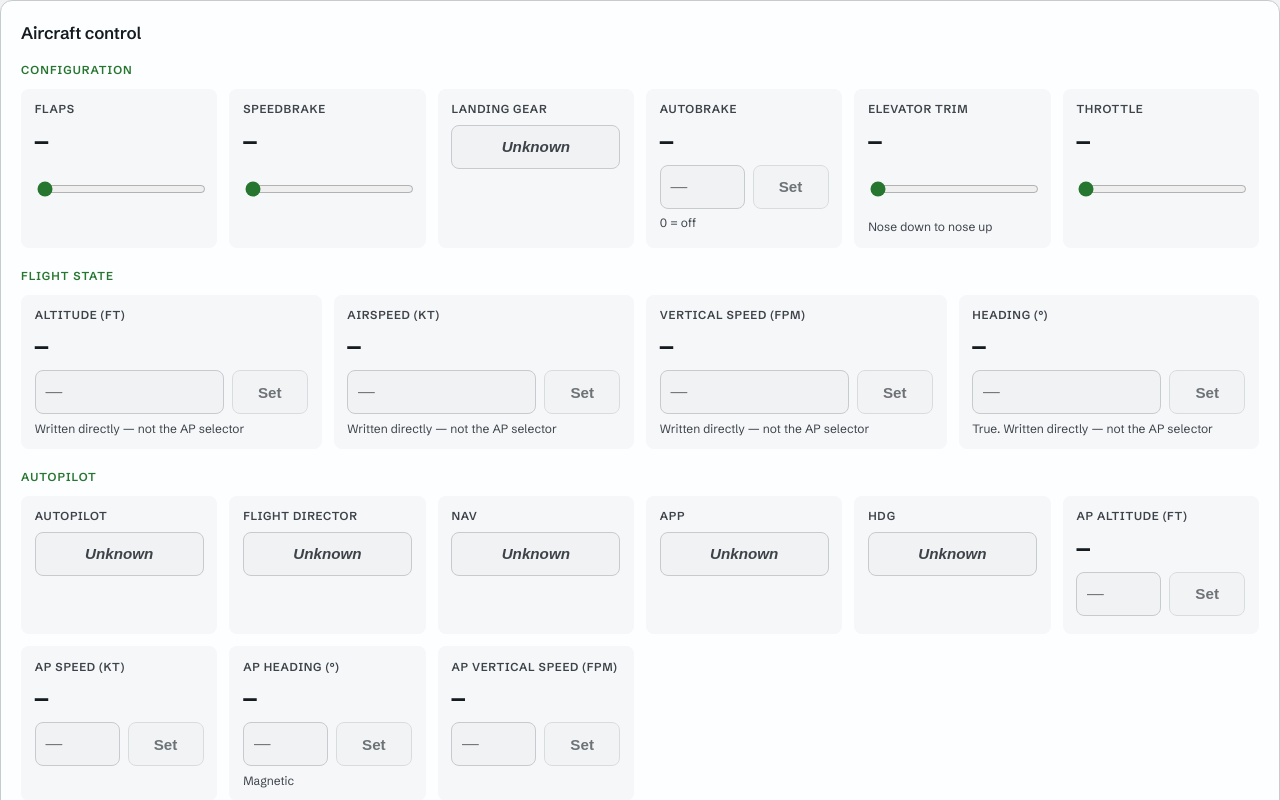
<AircraftControlPanel /> › posts the gear command and confirms it optimistically
This screenshot has width=1280, height=800.
Click the button named "landing gear". click: (536, 147)
box: top-left (452, 125), bottom-right (620, 169)
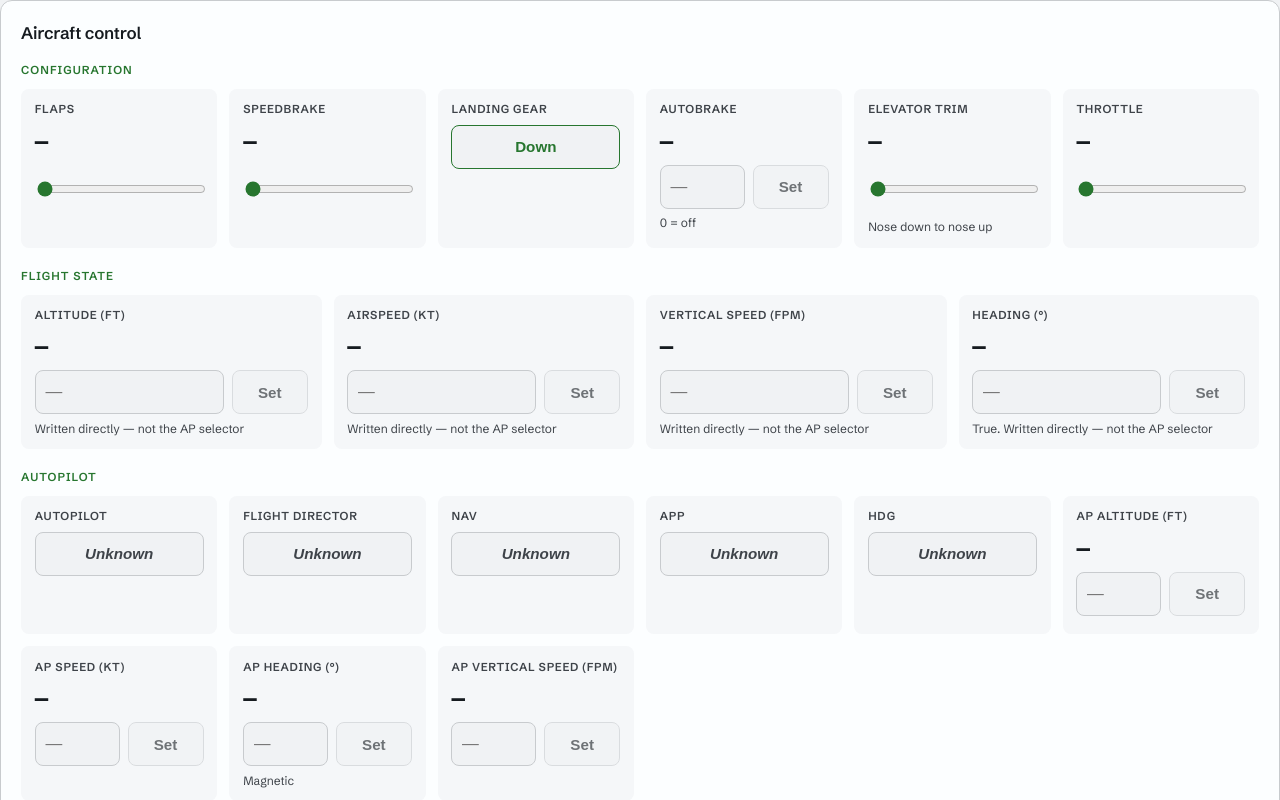
Check: the button named "landing gear" reads "Down", box top-left (452, 125), bottom-right (620, 169)
